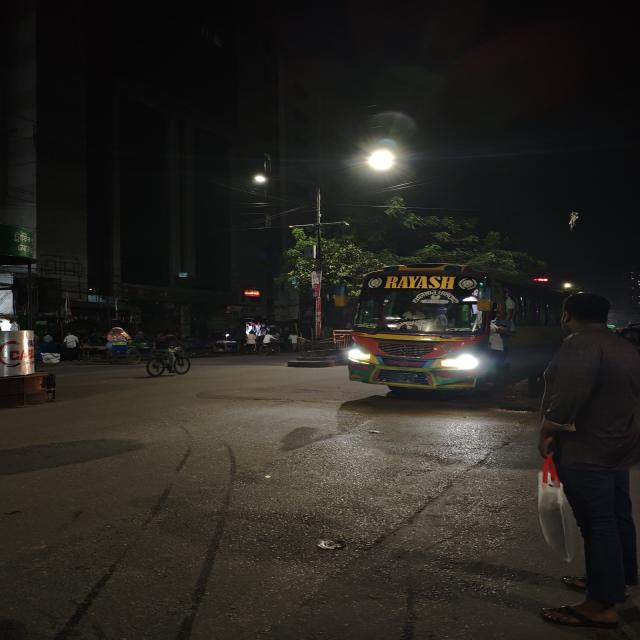bicycle: (132, 332, 196, 382), (256, 335, 284, 358)
bus: (340, 256, 534, 408)
pedestrian: (534, 292, 640, 640), (63, 334, 81, 361), (243, 331, 256, 357), (290, 334, 299, 352)
rickshaw: (99, 322, 141, 366)
